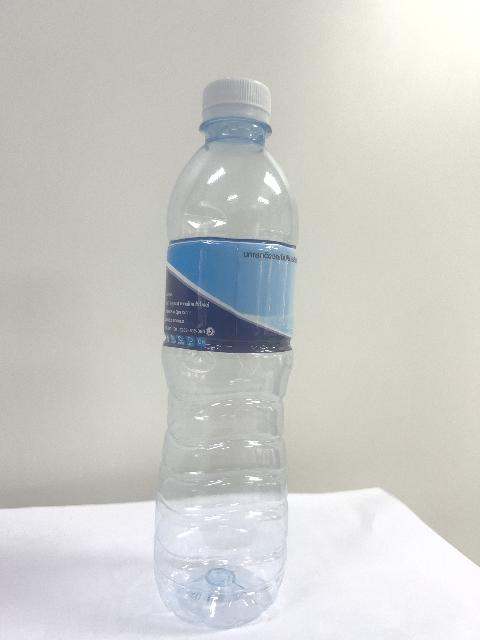bottle: (154, 78, 296, 627)
